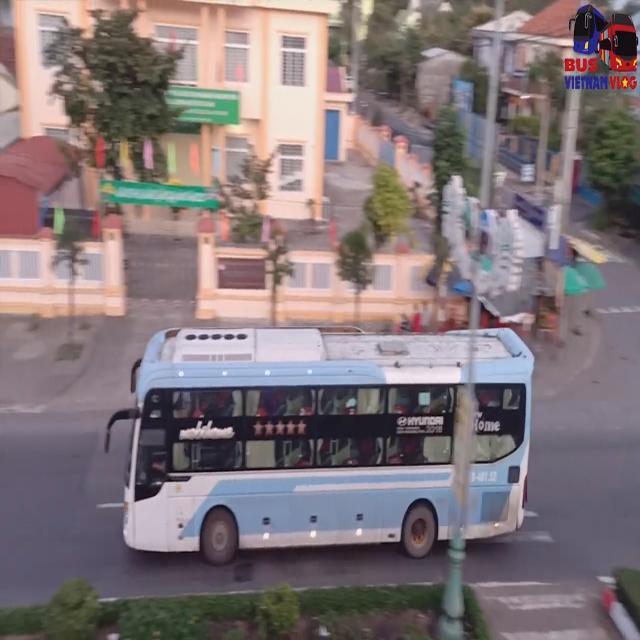bus: (125, 326, 534, 557)
